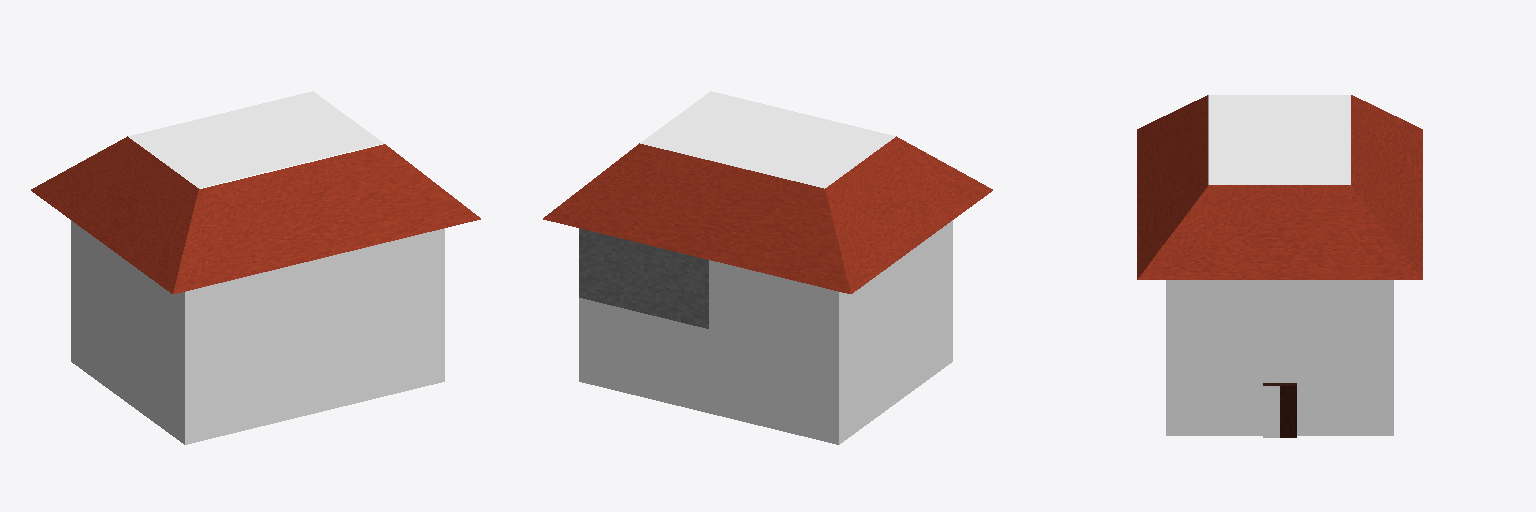
3 views of the same model, side by side, from view 1: azimuth 30°, elevation 25°; view 2: azimuth 150°, elevation 25°; view 3: azimuth 270°, elevation 25° (orthographic).
Visible parts, largest first — view 1: Cube, Cube.001; view 2: Cube, Cube.001; view 3: Cube.001, Cube, Cube.002.
Boxes of the visible parts, x1=… form: Cube: x1=71, y1=220, x2=444, y2=444; Cube.001: x1=31, y1=91, x2=480, y2=293; Cube: x1=579, y1=220, x2=952, y2=444; Cube.001: x1=543, y1=91, x2=992, y2=293; Cube.001: x1=1137, y1=95, x2=1422, y2=279; Cube: x1=1166, y1=280, x2=1393, y2=435; Cube.002: x1=1263, y1=383, x2=1296, y2=437.
Size of the model in its own units: 2.5 by 1.79 by 2.
Materials: 3 (1 with a texture image).